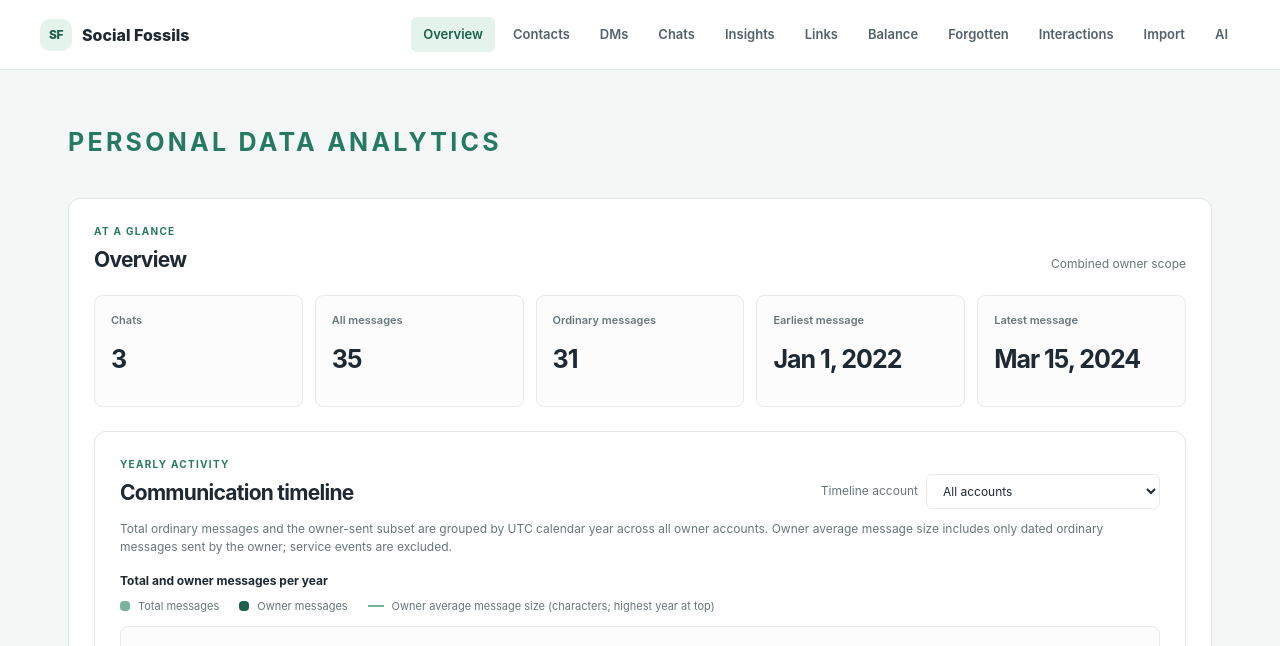
Test case: dashboard › limits both sender pie charts to the top ten and groups remaining senders
The image size is (1280, 646).
expect the heading "All messages" is shown: met, box top-left (332, 313), bottom-right (403, 327)
Click the tab "Insights": (750, 35) top-left (713, 17), bottom-right (787, 52)
(page scrolled)
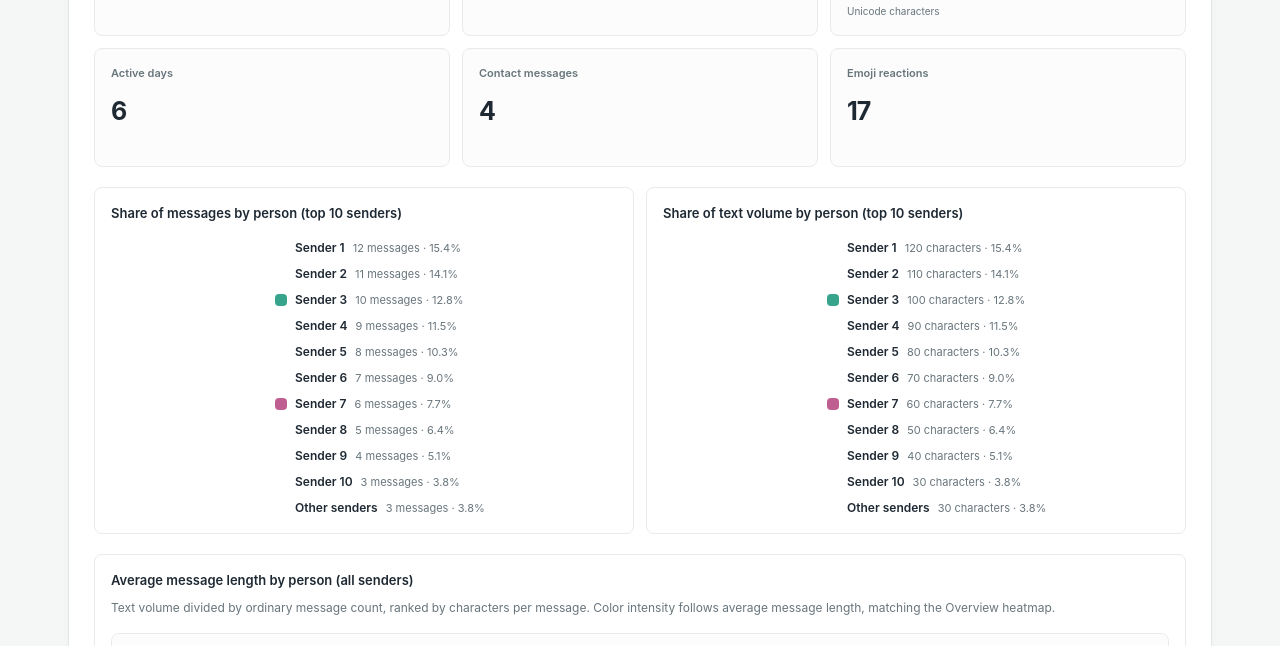
expect the text "Sender 1" below "Share of messages by person" is shown: met, box top-left (295, 240), bottom-right (345, 255)
expect the text "Other senders" below "Share of messages by person" is shown: met, box top-left (295, 500), bottom-right (378, 515)
expect the element "Share of messages by person" shows "3 messages · 3.8%": met, box top-left (94, 186), bottom-right (634, 534)
